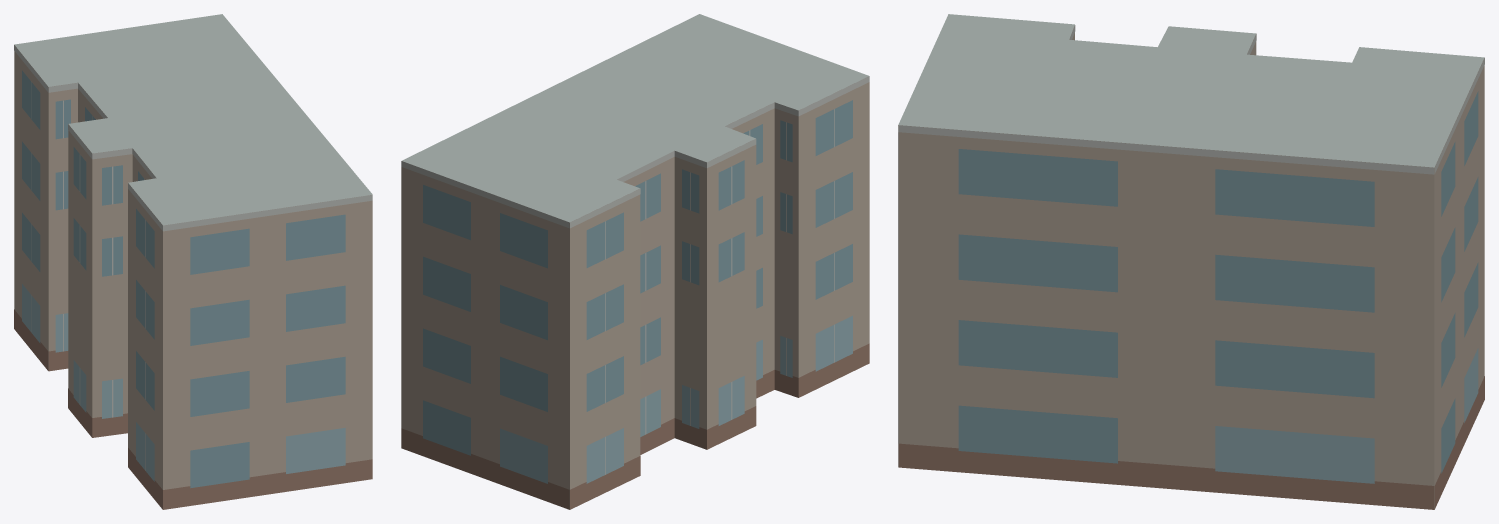
File: survey-upis-32536616.glb
The picture shows the model from 3 angles, left to right: view 1: azimuth 30°, elevation 25°; view 2: azimuth 150°, elevation 25°; view 3: azimuth 270°, elevation 25°; orthographic projection. The views are drawn at different scales.
Visible parts, largest first — view 1: survey-upis-32536616.tmp; view 2: survey-upis-32536616.tmp; view 3: survey-upis-32536616.tmp.
Boxes of the visible parts, bbox=[...] form: survey-upis-32536616.tmp: bbox=[14, 14, 372, 509]; survey-upis-32536616.tmp: bbox=[401, 14, 869, 509]; survey-upis-32536616.tmp: bbox=[898, 14, 1484, 509].
Size of the model in its own units: 11.31 by 11.75 by 18.25.
